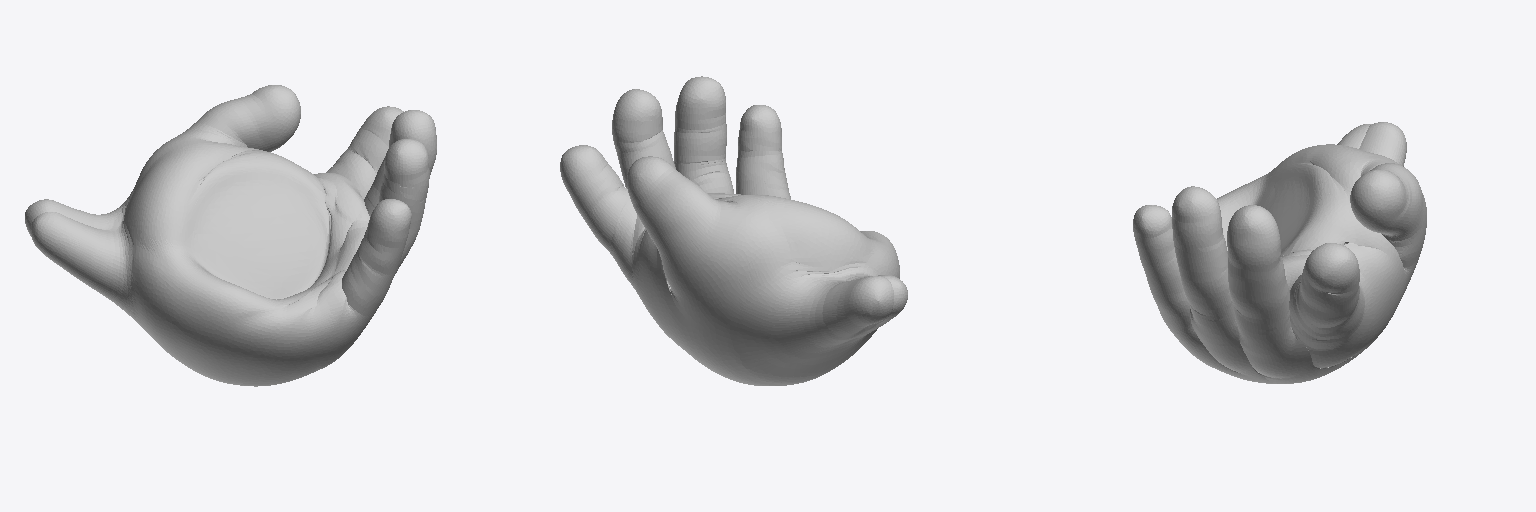
Rendered from GEO_Hand_1.OBJ.
3 renders of one model, left to right at view 1: azimuth 30°, elevation 25°; view 2: azimuth 150°, elevation 25°; view 3: azimuth 270°, elevation 25°, orthographic.
Visible parts, largest first — view 1: Group5029; view 2: Group5029; view 3: Group5029.
Part boxes in pixels (bbox=[...]): Group5029: bbox=[25, 85, 436, 386]; Group5029: bbox=[560, 76, 907, 385]; Group5029: bbox=[1133, 122, 1426, 383].
Bounding box in the file's own units: 14.81 × 9.46 × 10.51.